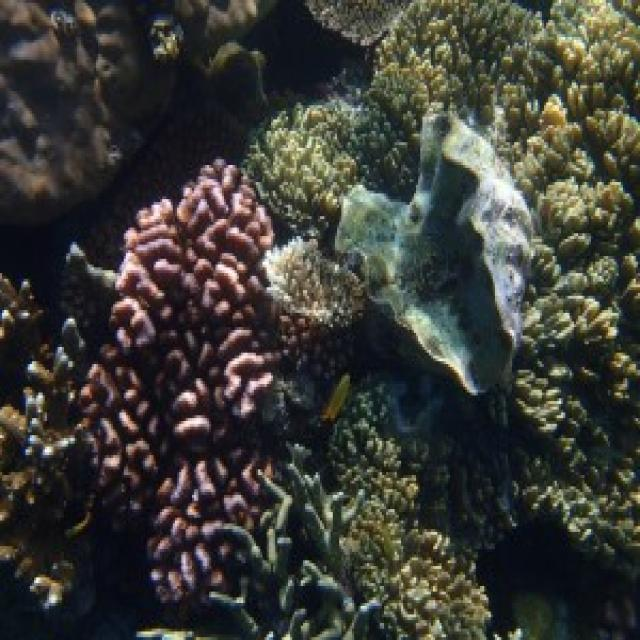Healthy: (82, 160, 280, 601), (502, 1, 639, 576), (336, 115, 534, 394), (332, 394, 490, 638), (1, 1, 174, 223), (210, 448, 381, 638), (1, 274, 93, 610), (372, 1, 539, 138), (246, 101, 368, 237), (266, 240, 364, 376), (266, 240, 364, 325), (176, 1, 278, 64), (306, 1, 413, 47), (184, 1, 263, 32)
